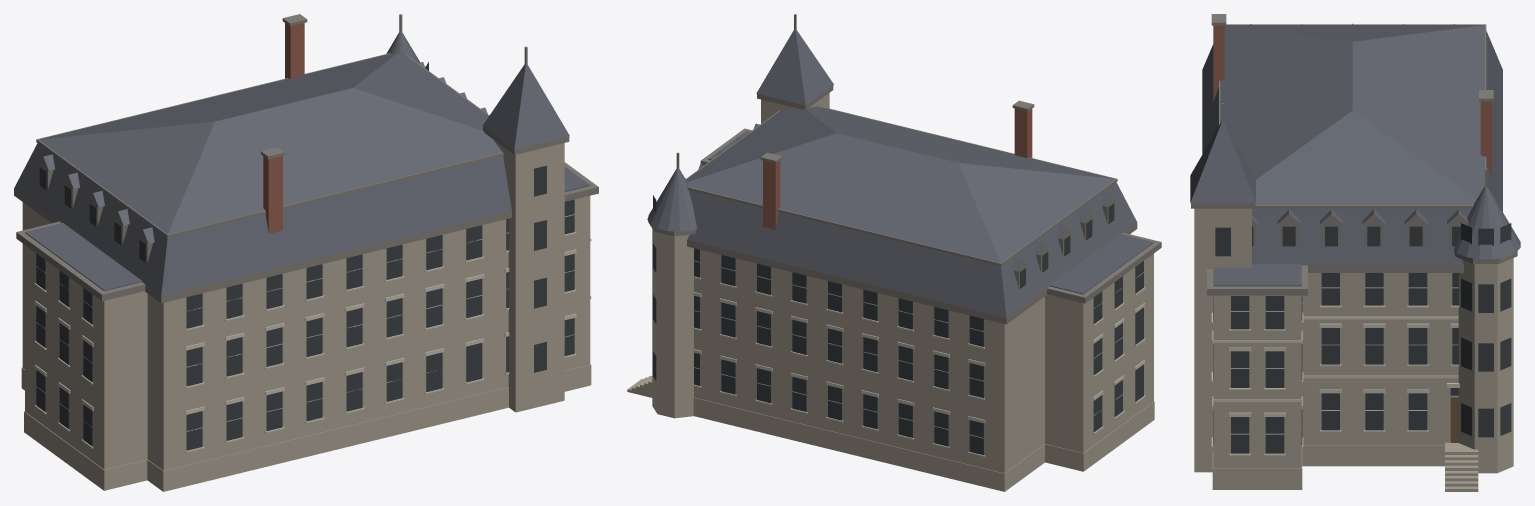
The model's file is doane_house_1827_prairie__draft_1904.glb.
3 renders of one model, left to right at view 1: azimuth 30°, elevation 25°; view 2: azimuth 150°, elevation 25°; view 3: azimuth 270°, elevation 25°, orthographic. The views are drawn at different scales.
Parts seen in each view (by area): view 1: doane_house_1827_prairie__draft_1904; view 2: doane_house_1827_prairie__draft_1904; view 3: doane_house_1827_prairie__draft_1904.
Boxes of the visible parts, left/top/right/bottom form: doane_house_1827_prairie__draft_1904: left=14, top=14, right=598, bottom=491; doane_house_1827_prairie__draft_1904: left=627, top=14, right=1161, bottom=491; doane_house_1827_prairie__draft_1904: left=1190, top=14, right=1520, bottom=491.
Bounding box in the file's own units: 30.7 × 21.2 × 17.8.
